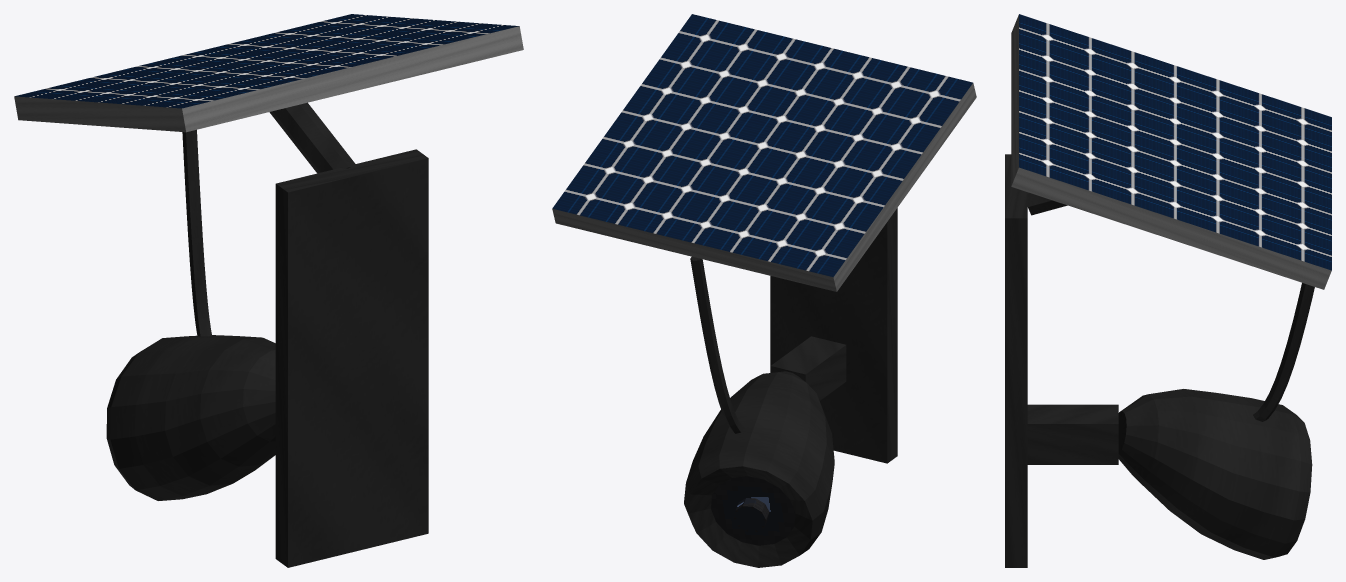
The model's file is alpr_camera_solar_wall_inv.obj.
3 renders of one model, left to right at view 1: azimuth 30°, elevation 25°; view 2: azimuth 150°, elevation 25°; view 3: azimuth 270°, elevation 25°, orthographic. The views are drawn at different scales.
Visible parts, largest first — view 1: miovision360; view 2: miovision360; view 3: miovision360.
Boxes of the visible parts, x1,y1,x2,y2 form: miovision360: (14, 14, 523, 567); miovision360: (552, 14, 976, 567); miovision360: (1005, 14, 1331, 567).
Size of the model in its own units: 0.96 by 1.4 by 0.8637.
